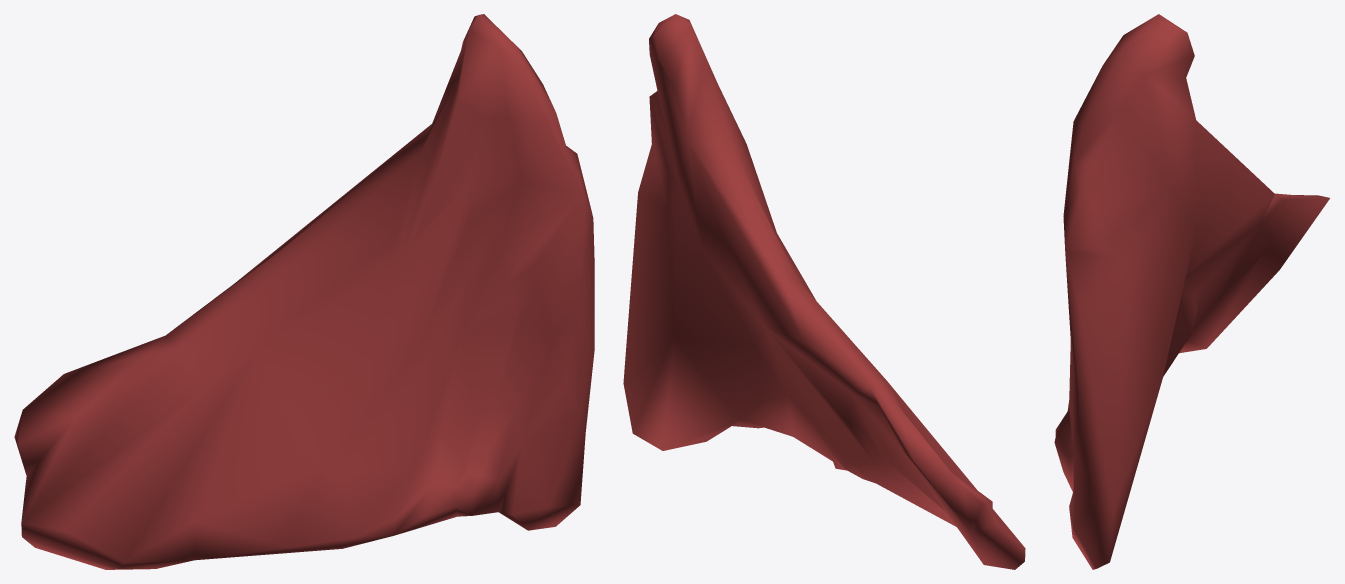
Rendered from depressor-septi-nasi-r.glb.
3 renders of one model, left to right at view 1: azimuth 30°, elevation 25°; view 2: azimuth 150°, elevation 25°; view 3: azimuth 270°, elevation 25°, orthographic. The views are drawn at different scales.
Parts seen in each view (by area): view 1: Depressor septi nasi.r; view 2: Depressor septi nasi.r; view 3: Depressor septi nasi.r.
Boxes of the visible parts, x1,y1,x2,y2 form: Depressor septi nasi.r: (14,14,594,569); Depressor septi nasi.r: (623,14,1025,569); Depressor septi nasi.r: (1054,14,1329,569).
Size of the model in its own units: 0.0166 by 0.0161 by 0.00757.
